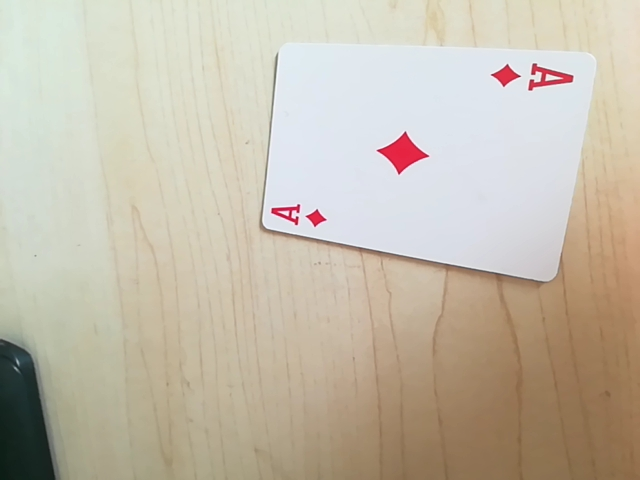fk a: (491, 57, 577, 99), (267, 199, 333, 232)
